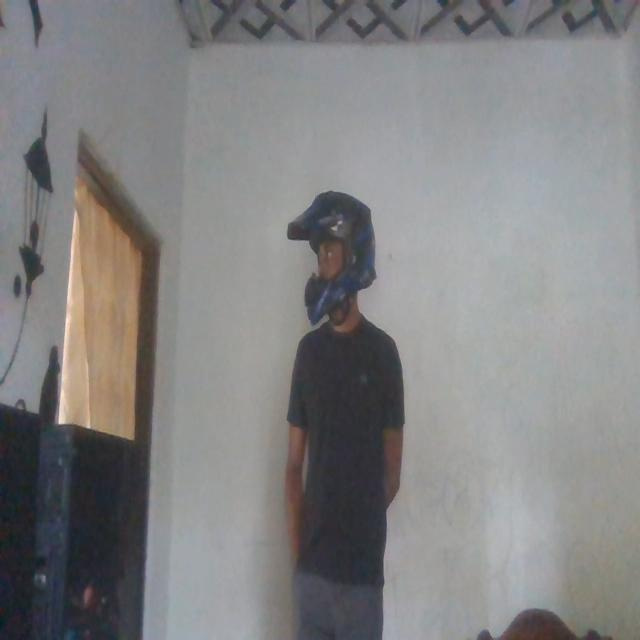Helmet_Wearer: (284, 178, 380, 322)
Person: (281, 186, 403, 640)
